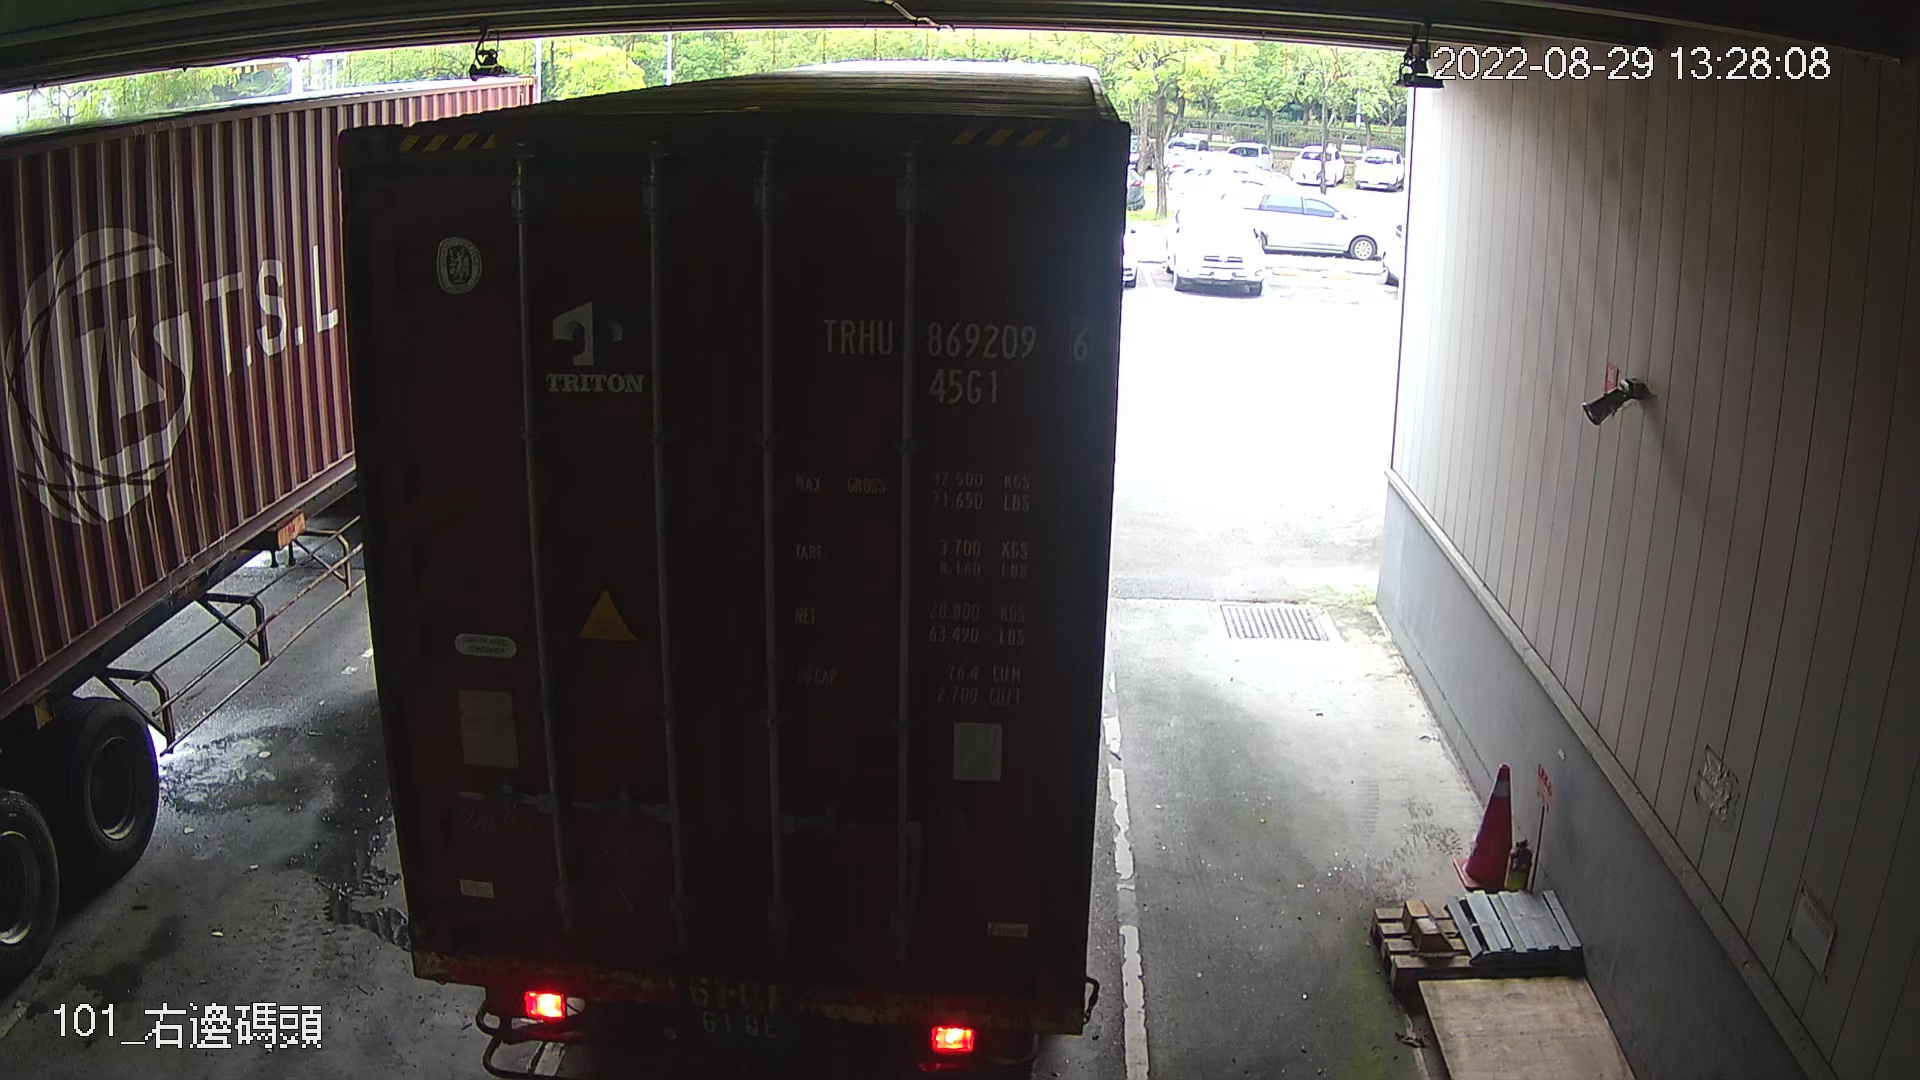container: (812, 295, 1101, 418)
